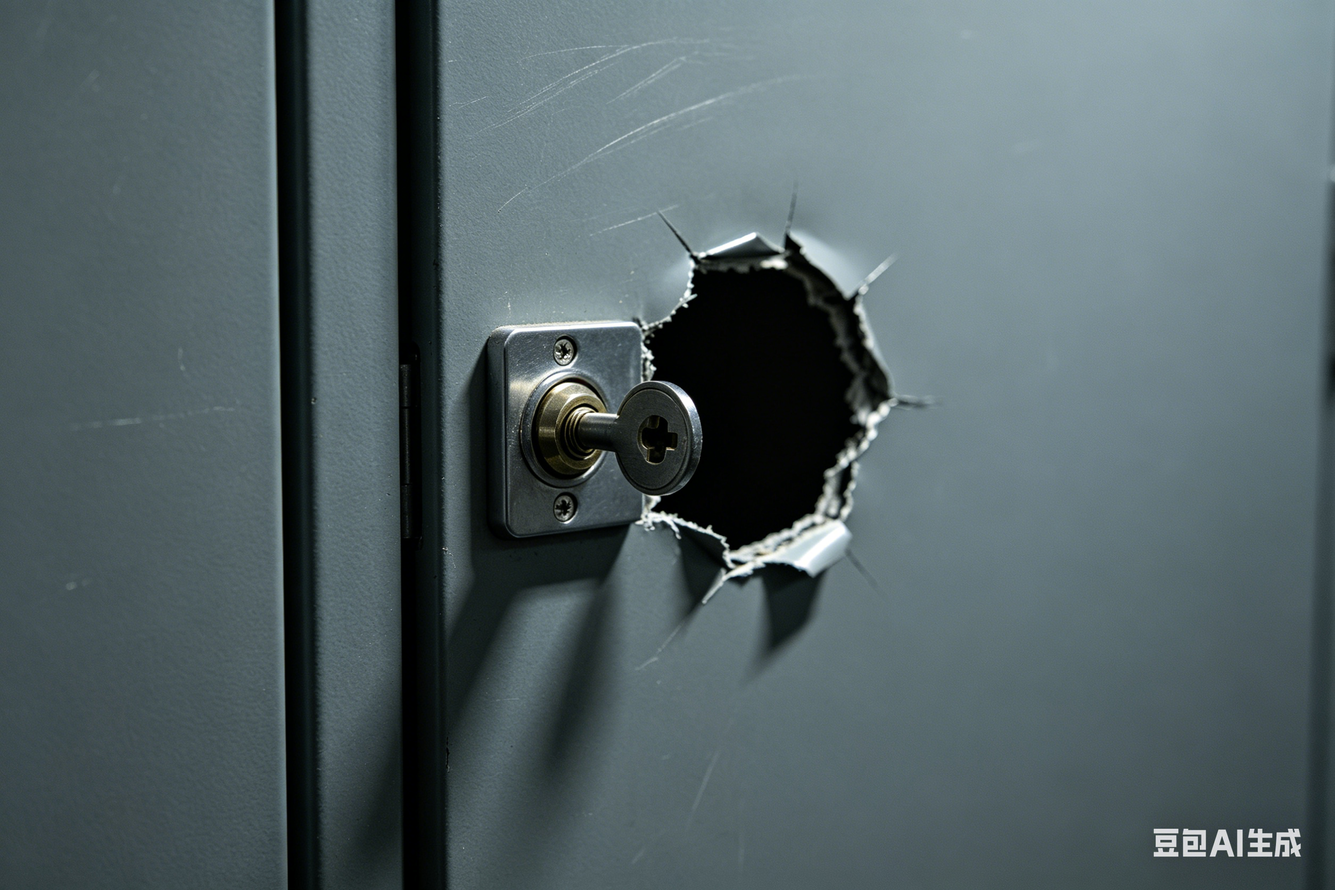BadLock: (636, 234, 905, 589)
